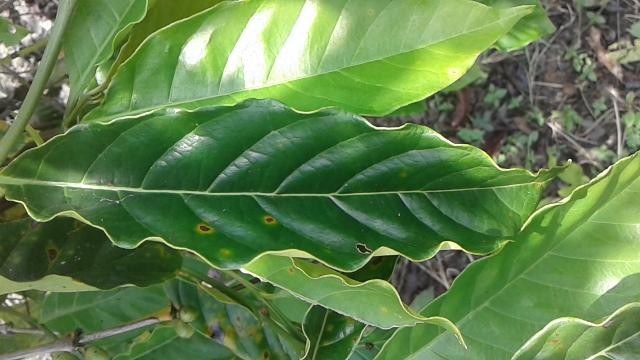rust_level_1: (0, 99, 570, 270)
